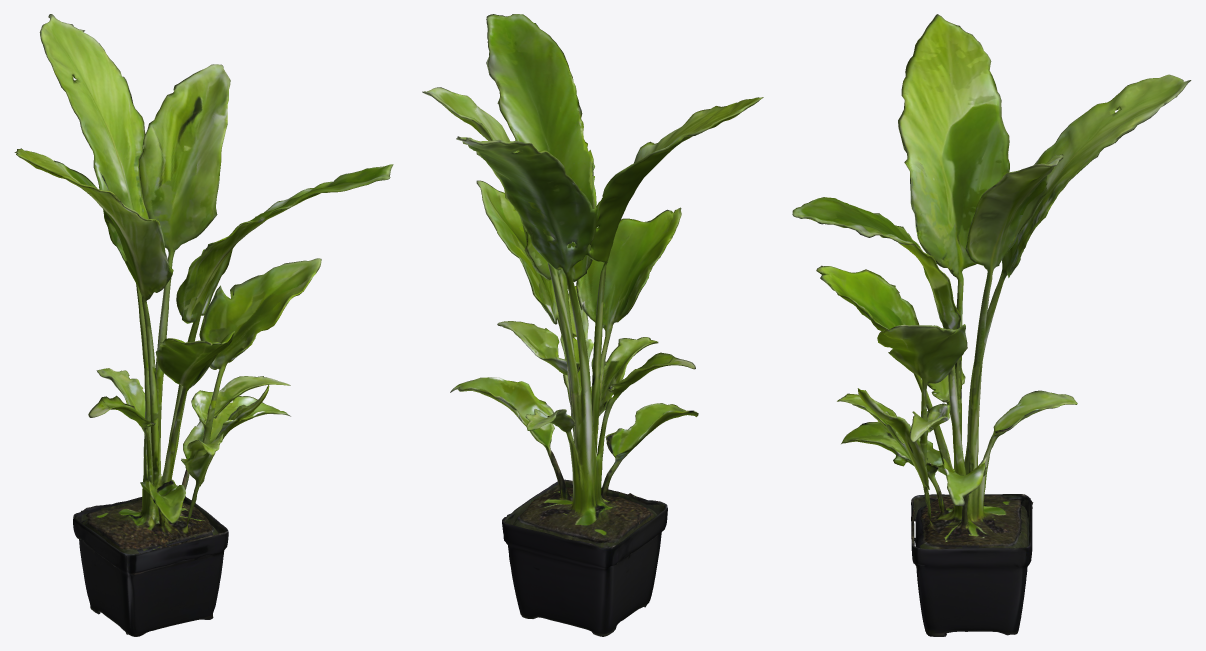
The model's file is Turmeric.glb.
3 views of the same model, side by side, from view 1: azimuth 30°, elevation 25°; view 2: azimuth 150°, elevation 25°; view 3: azimuth 270°, elevation 25° (orthographic). The views are drawn at different scales.
Bounding box in the file's own units: 1.28 × 1.99 × 1.34.
Materials: 1 (1 with a texture image).
